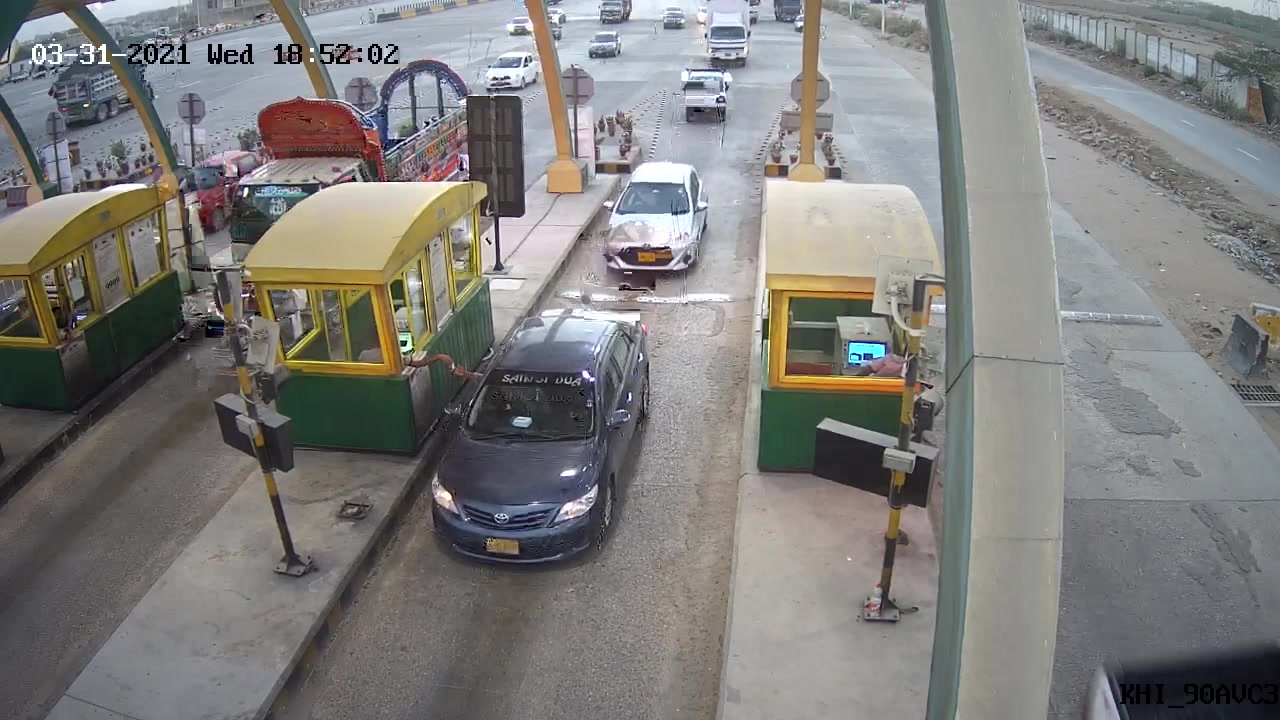F1: (430, 307, 662, 568)
